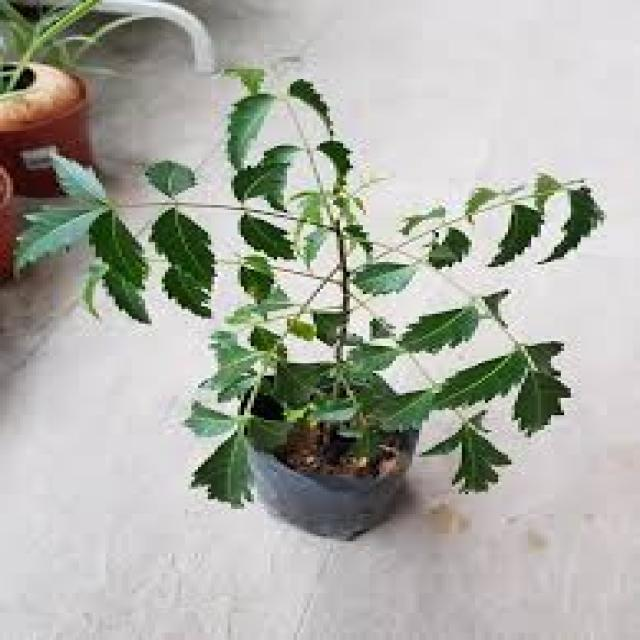Neem-Tree: (44, 183, 600, 384)
